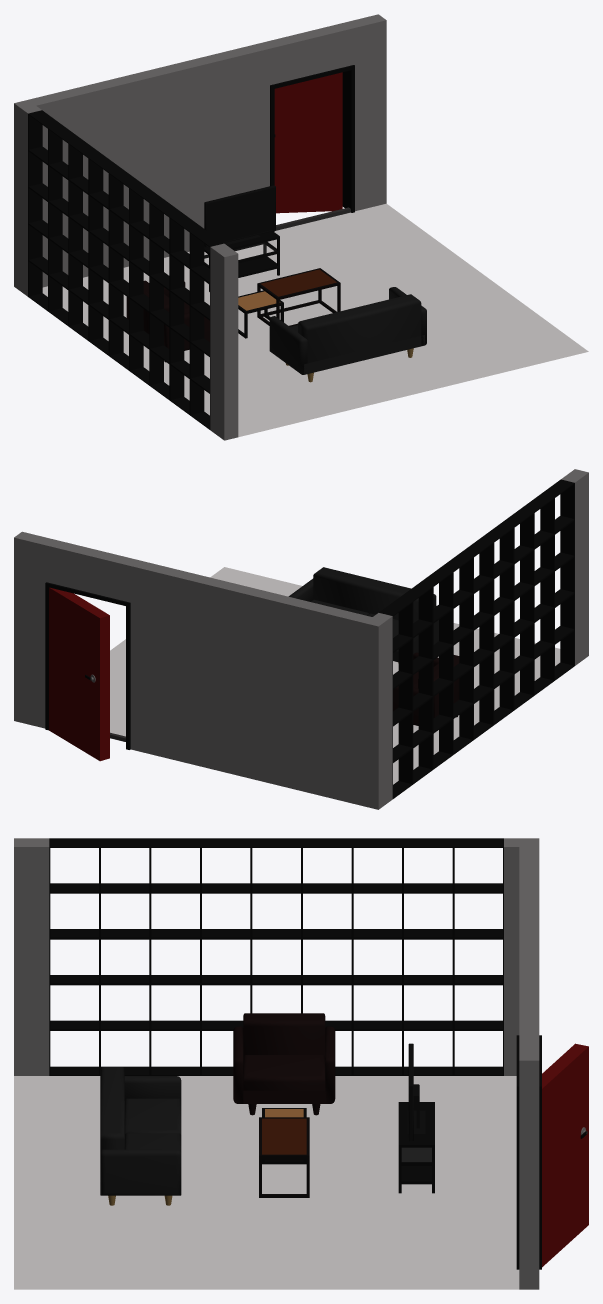
Rendered from livingroomwfurniture.fbx.
The picture shows the model from 3 angles, top to bottom: view 1: azimuth 30°, elevation 25°; view 2: azimuth 150°, elevation 25°; view 3: azimuth 270°, elevation 25°; orthographic projection. The views are drawn at different scales.
Visible parts, largest first — view 1: 地板, 牆01, 門, 牆002, Box006, tv, 門框, Box004, Box003, Box013, 窗框009, 窗框044 (+43 smaller); view 2: 牆01, 門, 牆002, 地板, Box006, 門框, 窗框039, 窗框014, 窗框005, 窗框009, 窗框024, 窗框034 (+39 smaller); view 3: 地板, 牆002, 牆01, 門, Box006 (×2), Box005 (×3), Box001 (×2), Box002 (×2), Box004 (×2), Box013, 門框, Box003 (+41 smaller).
Part boxes in pixels (left/top/right/bottom): 地板: left=42, top=203, right=588, bottom=437; 牆01: left=28, top=14, right=386, bottom=287; 門: left=274, top=72, right=342, bottom=213; 牆002: left=14, top=100, right=238, bottom=440; Box006: left=298, top=294, right=421, bottom=363; tv: left=204, top=185, right=275, bottom=247; 門框: left=270, top=65, right=354, bottom=231; Box004: left=269, top=316, right=307, bottom=374; Box003: left=304, top=335, right=424, bottom=374; Box013: left=261, top=269, right=336, bottom=296; 窗框009: left=169, top=214, right=203, bottom=268; 窗框044: left=28, top=110, right=61, bottom=164; 牆01: left=14, top=531, right=372, bottom=806; 門: left=49, top=587, right=109, bottom=761; 牆002: left=364, top=469, right=588, bottom=809; 地板: left=110, top=567, right=560, bottom=784; Box006: left=313, top=567, right=436, bottom=622; 門框: left=45, top=582, right=130, bottom=749; 窗框039: left=399, top=583, right=433, bottom=637; 窗框014: left=500, top=509, right=534, bottom=563; 窗框005: left=541, top=479, right=574, bottom=533; 窗框009: left=521, top=494, right=554, bottom=548; 窗框024: left=460, top=538, right=493, bottom=592; 窗框034: left=419, top=568, right=453, bottom=622; 地板: left=14, top=1076, right=519, bottom=1289; 牆002: left=14, top=838, right=539, bottom=1075; 牆01: left=519, top=847, right=539, bottom=1289; 門: left=542, top=1043, right=588, bottom=1267; Box006 (×2): left=100, top=1013, right=325, bottom=1151; Box005 (×3): left=100, top=1026, right=309, bottom=1195; Box001 (×2): left=124, top=1055, right=325, bottom=1150; Box002 (×2): left=124, top=1098, right=431, bottom=1143; Box004 (×2): left=124, top=1026, right=335, bottom=1103; Box013: left=262, top=1118, right=306, bottom=1154; 門框: left=516, top=1035, right=541, bottom=1269; Box003: left=243, top=1090, right=326, bottom=1103.
Size of the model in its own units: 520 by 250 by 569.
